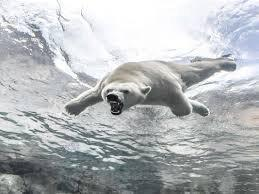bear: (61, 43, 239, 130)
